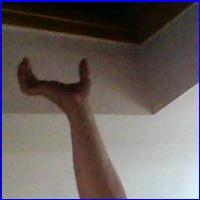space: (13, 48, 104, 121)
